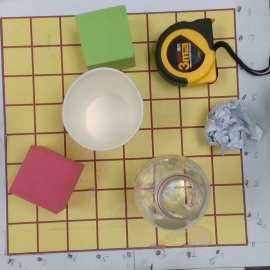bottle: (134, 154, 212, 230)
cup: (62, 66, 144, 152)
